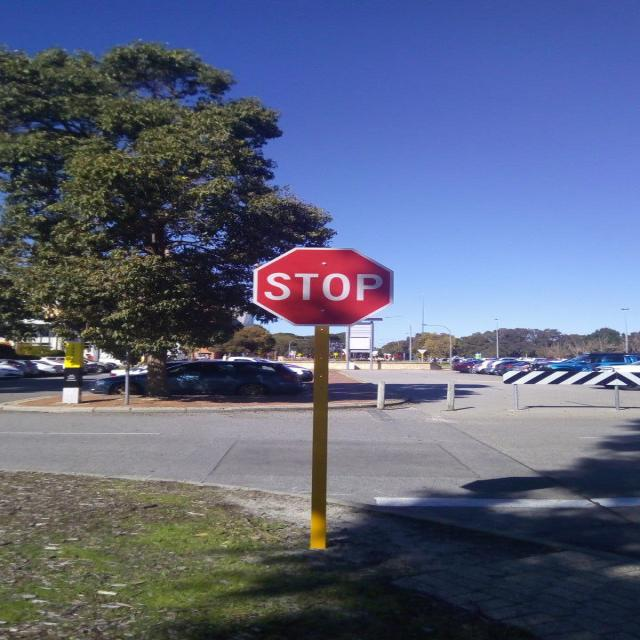stop: (256, 250, 397, 331)
